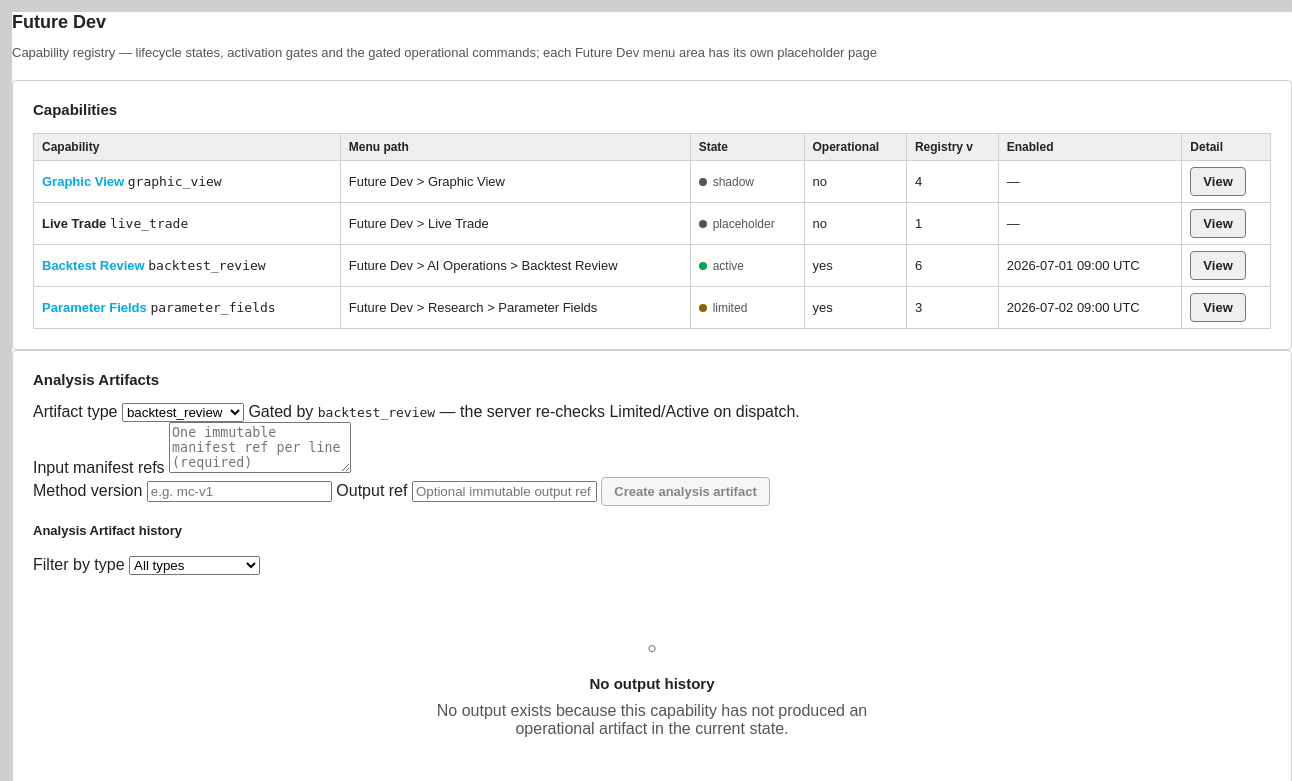
Scenario: Future Dev page › POSTs the OCC registry version with an Idempotency-Key and omits an untouched snapshot
expect the text "Live Trade" is shown: met, box [42,216,106,231]
Click the button "View" in the row of "graphic_view": (1218, 182) [1190,167,1246,196]
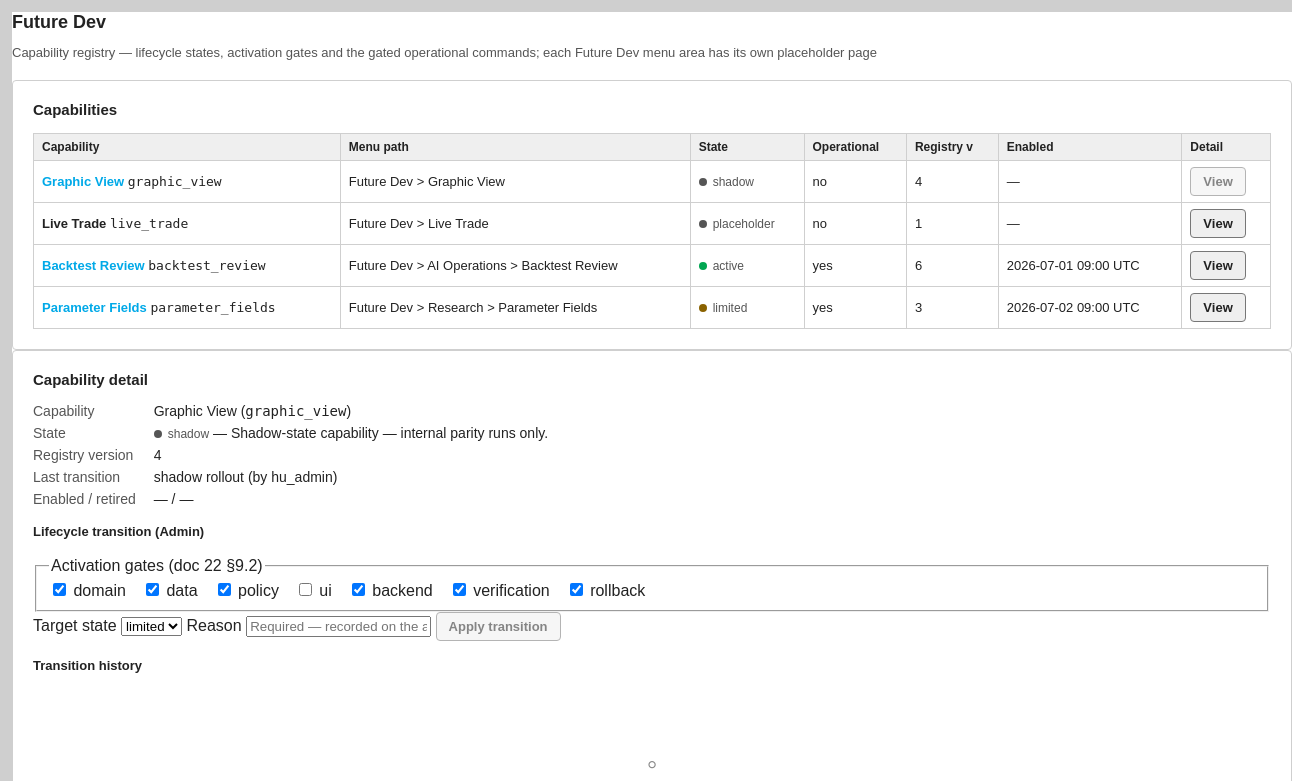
expect the text "shadow rollout (by hu_admin)" is shown: met, box [154,469,337,485]
In the field named "Transition reason": (339, 627) [246,616,431,637], type "promote to limited"
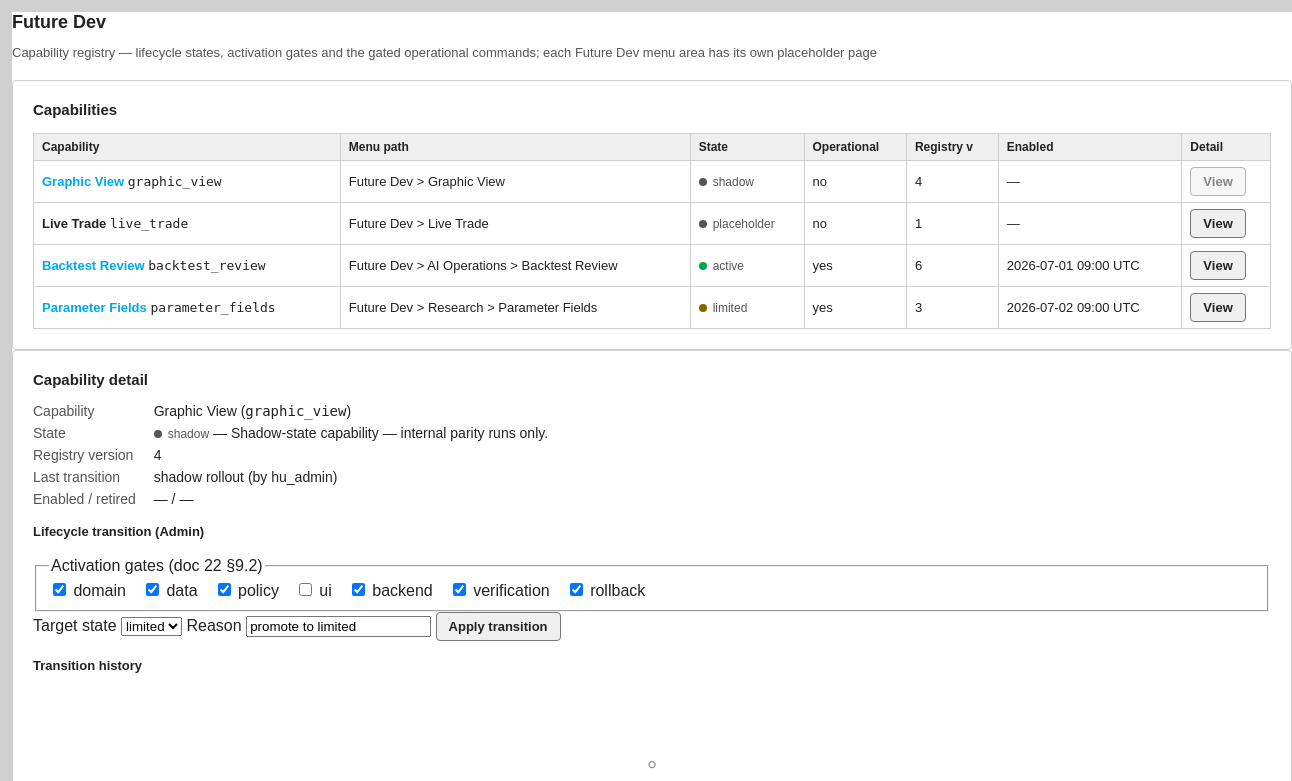
Click the button "Apply transition": (498, 627) [436,612,561,641]
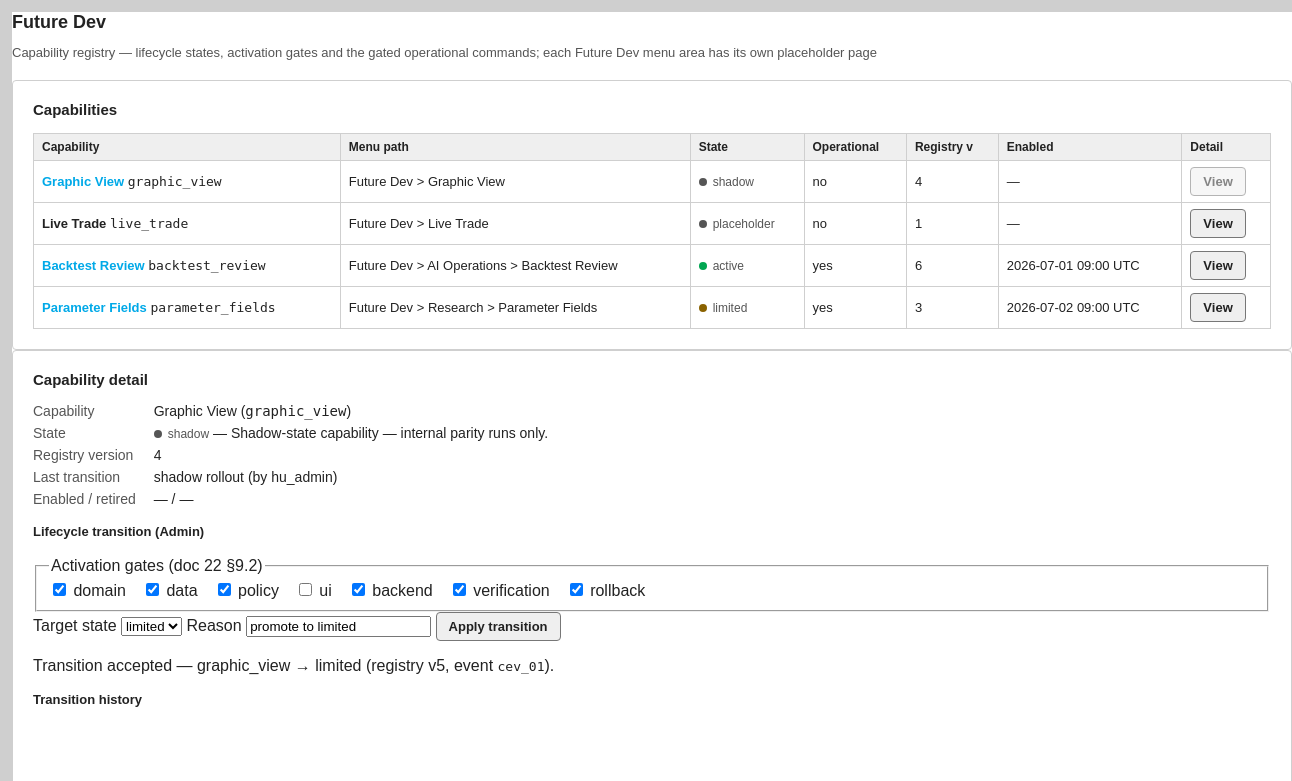
expect the element showing "limited" is shown: met, box [699,301,747,315]
expect the text "Transition accepted" is shown: met, box [33,657,197,674]
